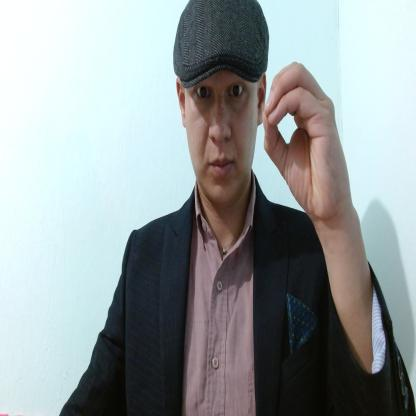O: (262, 60, 350, 217)
